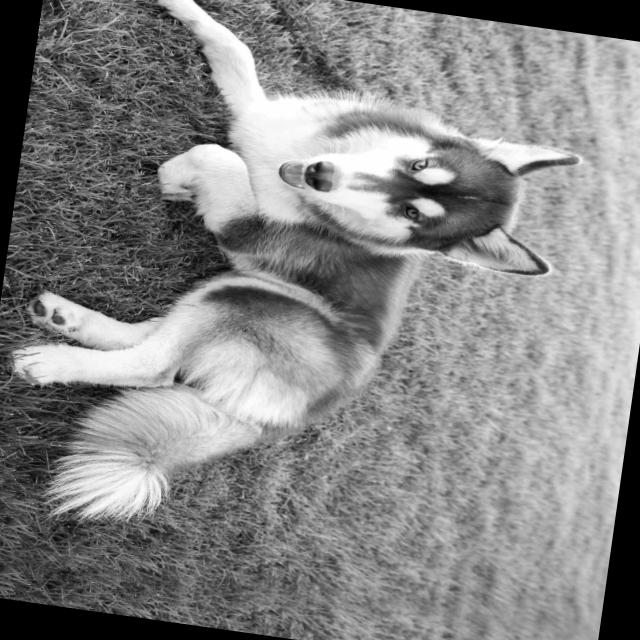laying down: (0, 0, 604, 576)
